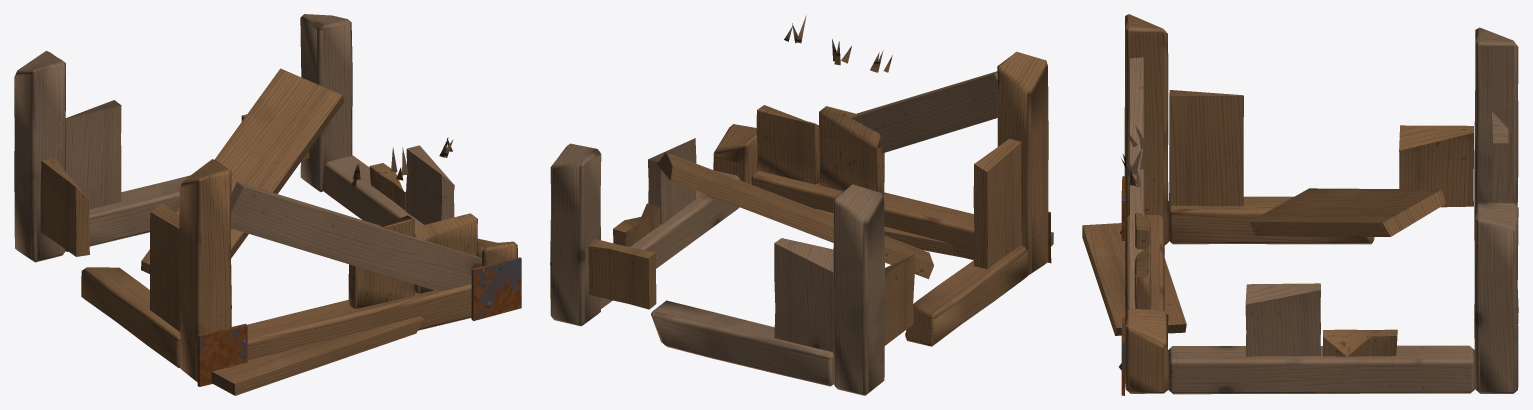
File: Broken_Crate_B.glb
3 renders of one model, left to right at view 1: azimuth 30°, elevation 25°; view 2: azimuth 150°, elevation 25°; view 3: azimuth 270°, elevation 25°, orthographic. The views are drawn at different scales.
Parts seen in each view (by area): view 1: Broken_Crate_B; view 2: Broken_Crate_B; view 3: Broken_Crate_B.
Boxes of the visible parts, x1=… form: Broken_Crate_B: x1=14, y1=14, x2=521, y2=395; Broken_Crate_B: x1=550, y1=15, x2=1053, y2=395; Broken_Crate_B: x1=1082, y1=14, x2=1518, y2=395.
Bounding box in the file's own units: 1 × 0.6206 × 1.11.
Materials: 2 (2 with a texture image).
